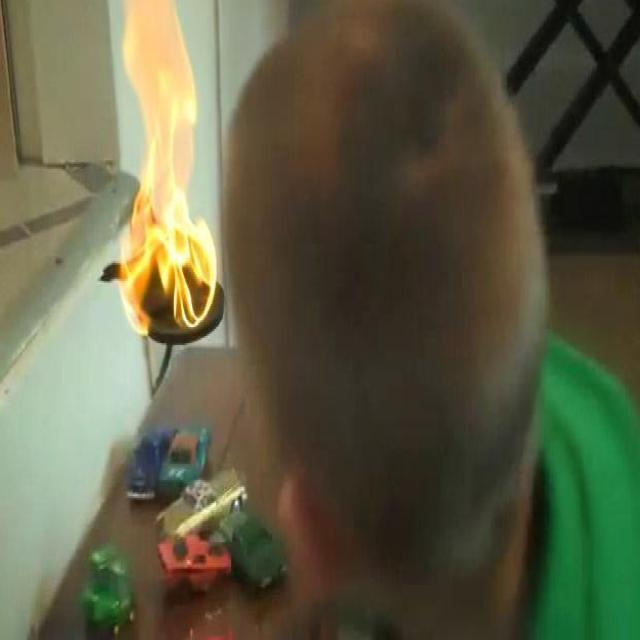smoke: (118, 0, 218, 329)
